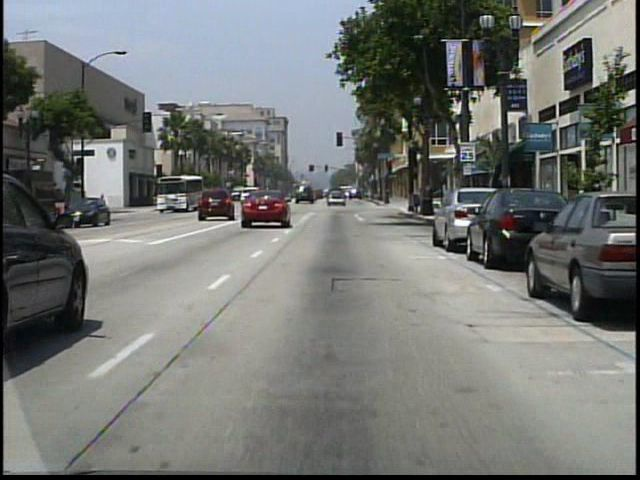person: (100, 192, 108, 216)
